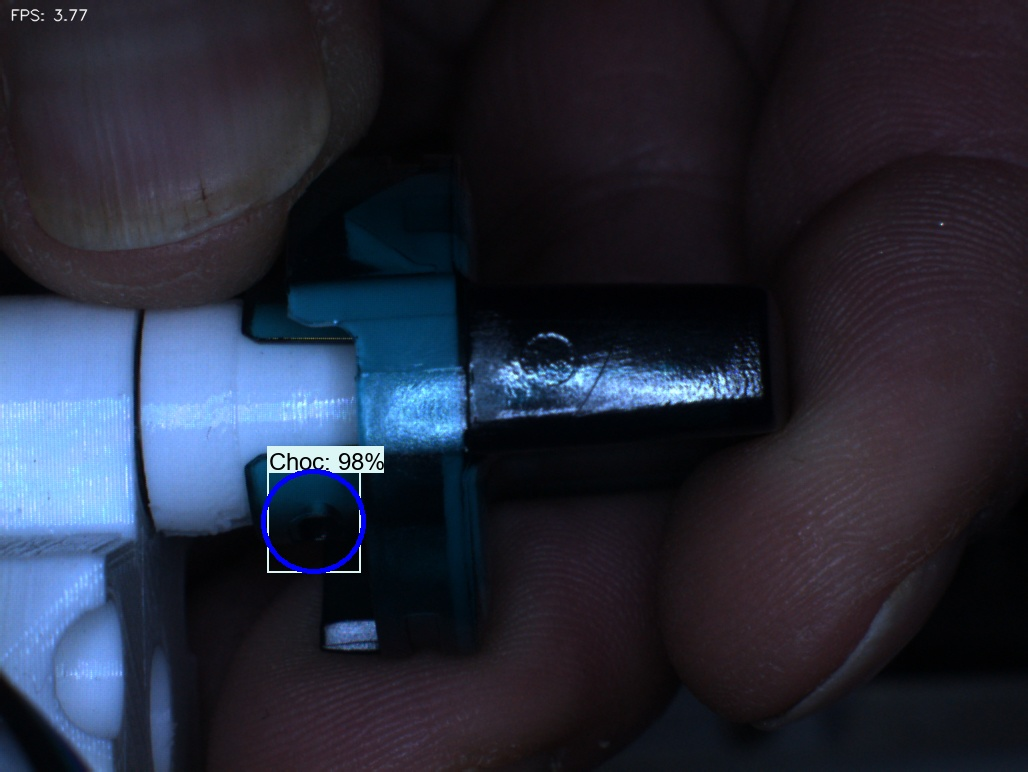DentOk: (319, 176, 392, 276)
